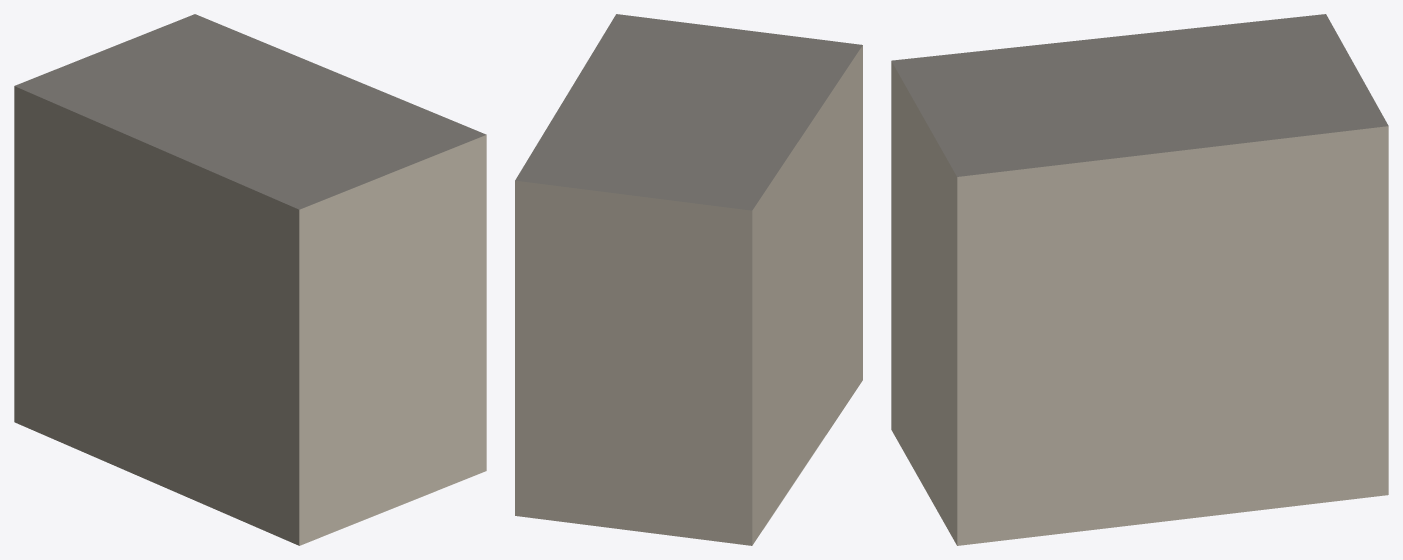
3 renders of one model, left to right at view 1: azimuth 30°, elevation 25°; view 2: azimuth 150°, elevation 25°; view 3: azimuth 270°, elevation 25°, orthographic. The views are drawn at different scales.
Parts seen in each view (by area): view 1: HP-w1197047258; view 2: HP-w1197047258; view 3: HP-w1197047258.
Boxes of the visible parts, bbox=[...] form: HP-w1197047258: bbox=[14, 14, 486, 545]; HP-w1197047258: bbox=[515, 14, 862, 545]; HP-w1197047258: bbox=[891, 14, 1388, 545].
Size of the model in its own units: 17.06 by 18 by 22.
